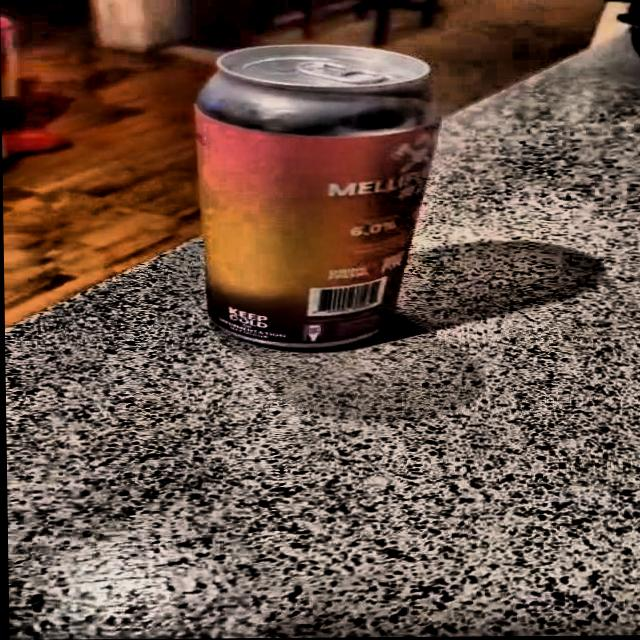can: (180, 32, 456, 356)
